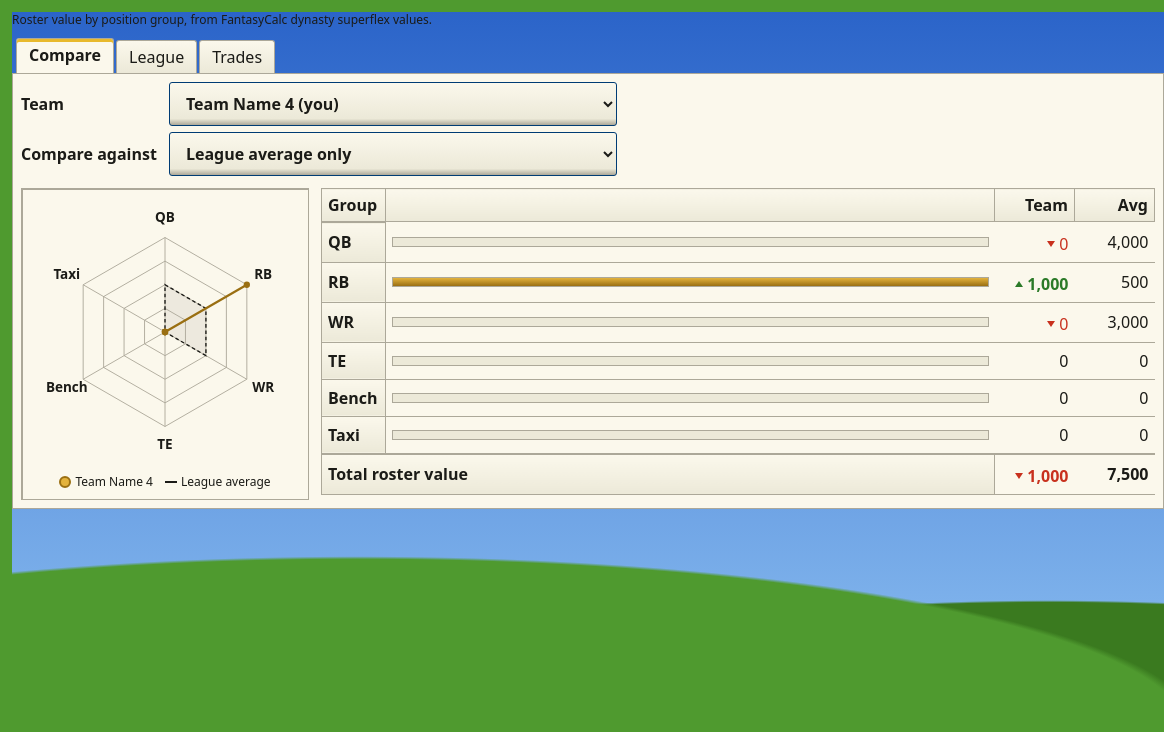
Test: Team Analyzer › compares the member's team with the league average, then with a picked team
Expected: the dropdown labelled "Team" shows "Team Name 4 (you)", [169,82,617,126]
Select "Team Name 6 (14,000)" in the dropdown labelled "Compare against" at (393, 154), box [169,132,617,176]
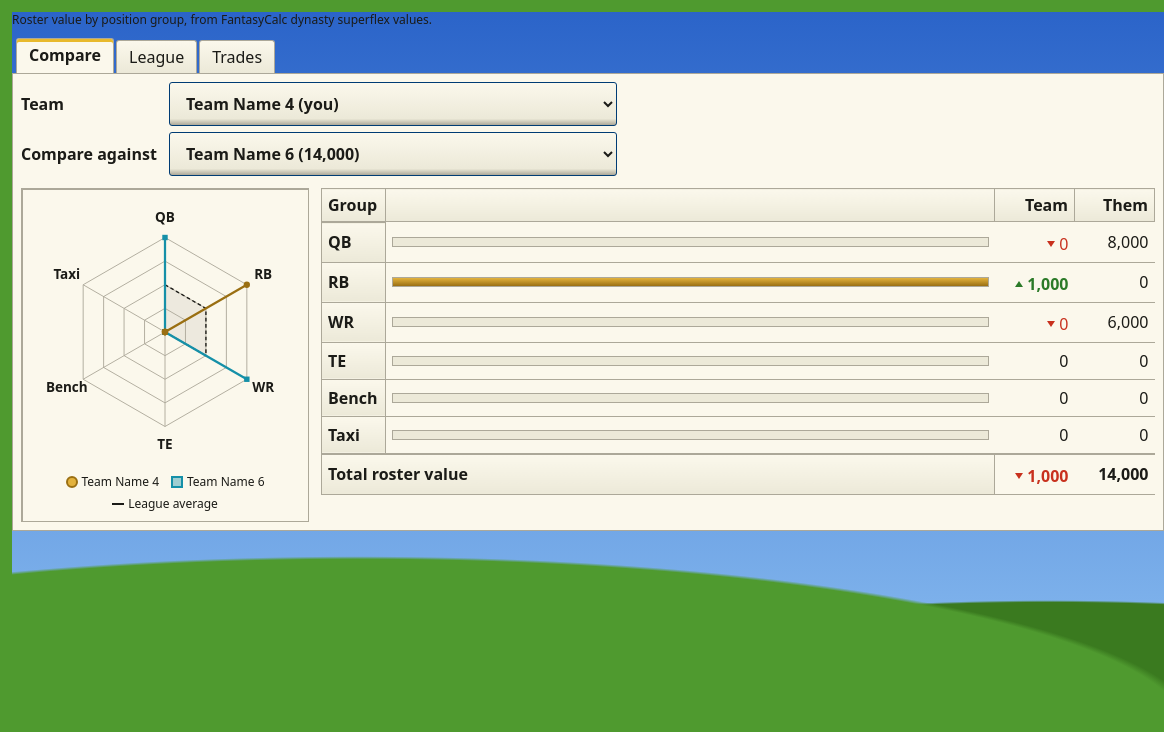
Now the column heading "Them" is shown, box [1074,188,1154,222]
